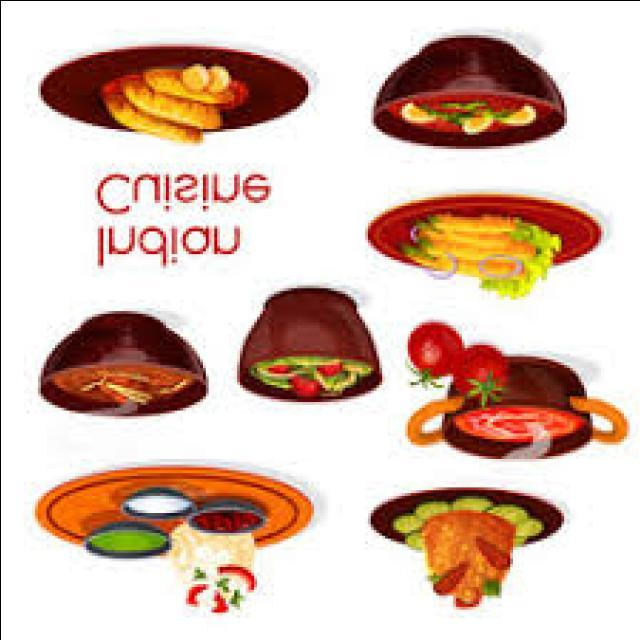dal: (377, 82, 555, 149)
sambar-rasam: (390, 85, 545, 148), (42, 355, 200, 411)
sweet: (246, 287, 382, 406), (48, 354, 194, 413)
